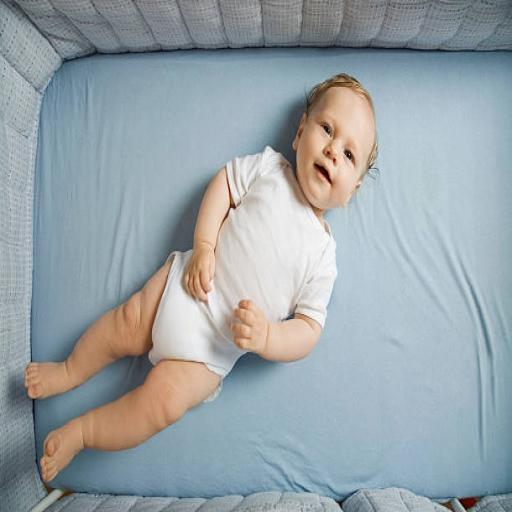baby: (26, 75, 376, 481)
crib: (0, 0, 511, 510)
